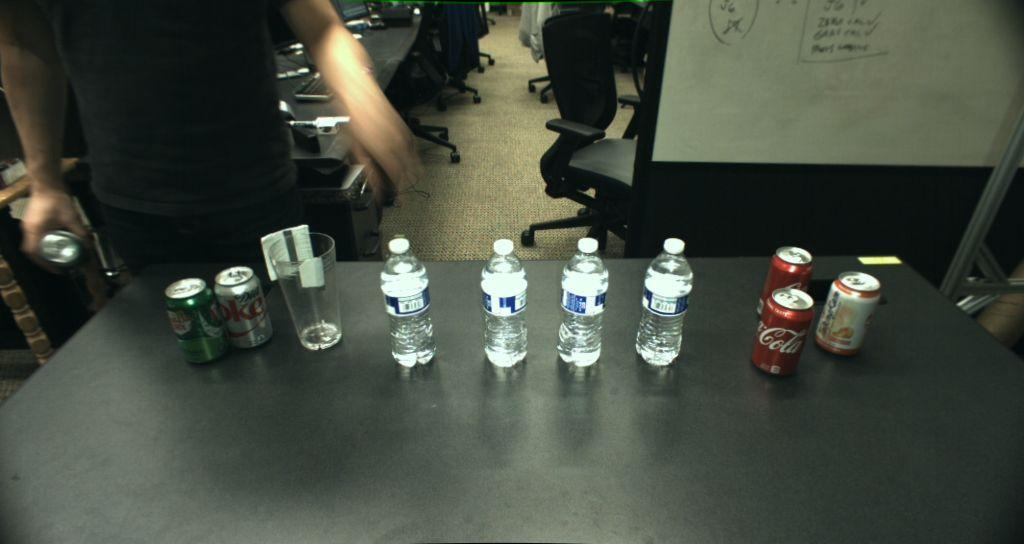can_coke: (752, 286, 814, 379)
can_diet_coke: (214, 267, 276, 351)
can_ginger_ale: (163, 277, 226, 367)
can_talking_rain_peach_nectarine: (816, 271, 880, 355)
water_bottle: (635, 237, 693, 368), (380, 237, 436, 367), (557, 236, 610, 367), (479, 238, 528, 368)
